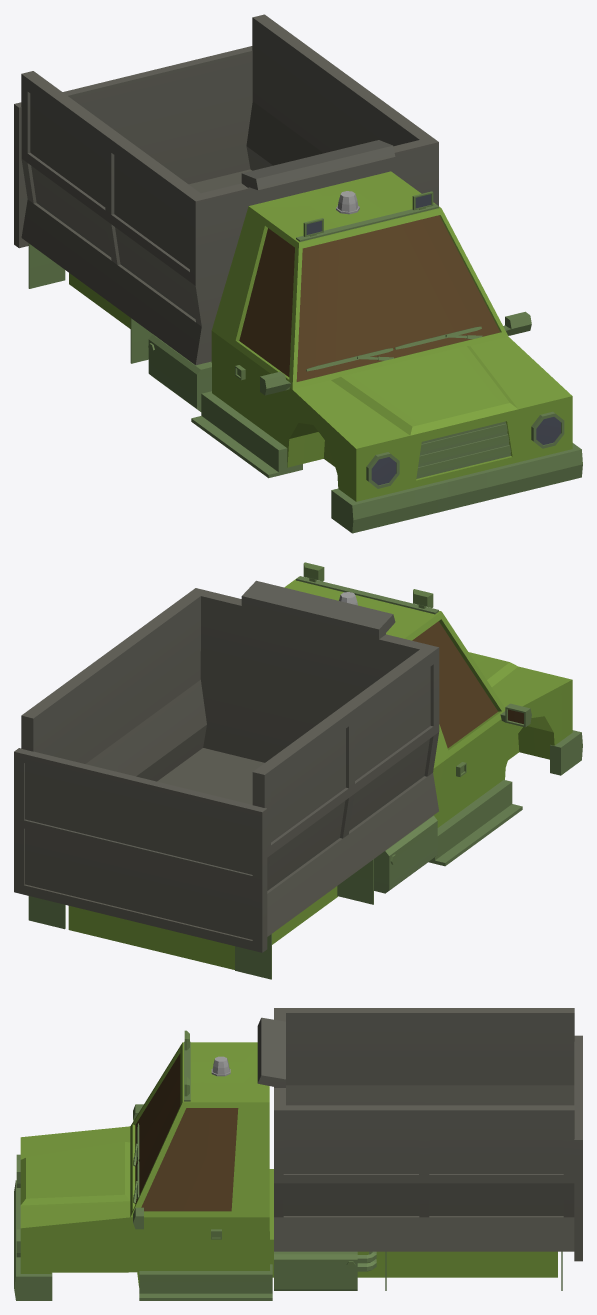
The model's file is Car_34.fbx.
The picture shows the model from 3 angles, top to bottom: view 1: azimuth 30°, elevation 25°; view 2: azimuth 150°, elevation 25°; view 3: azimuth 270°, elevation 25°; orthographic projection. The views are drawn at different scales.
Parts seen in each view (by area): view 1: Car_34; view 2: Car_34; view 3: Car_34.
Part boxes in pixels (box(x1,y1,x2,y2)): Car_34: box(14, 14, 582, 533); Car_34: box(14, 562, 582, 979); Car_34: box(14, 1008, 582, 1300).
Bounding box in the file's own units: 2.4 × 2.06 × 5.16.
